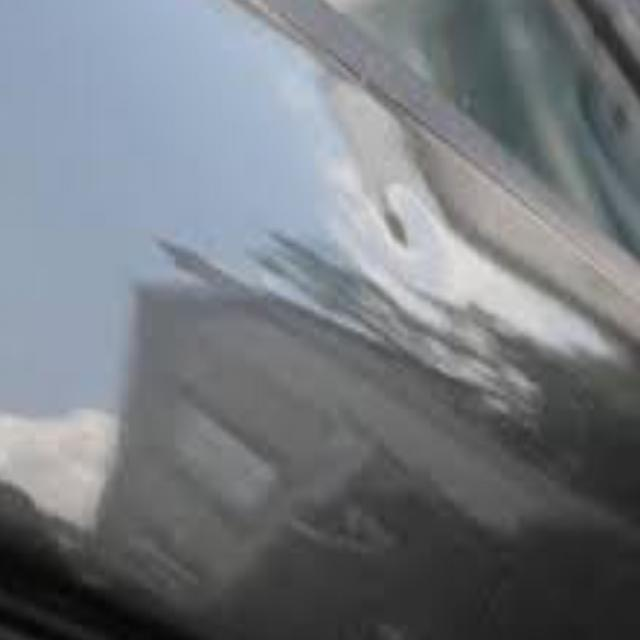dents: (342, 143, 475, 327)
